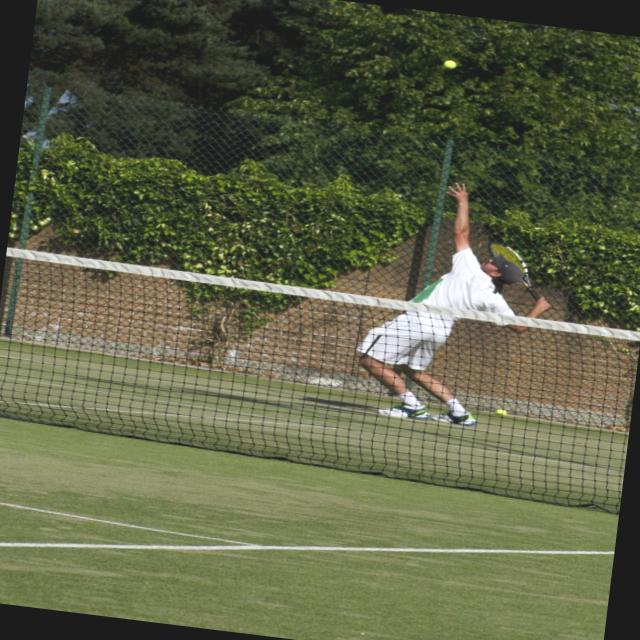Tennis Ball: (442, 59, 457, 70)
